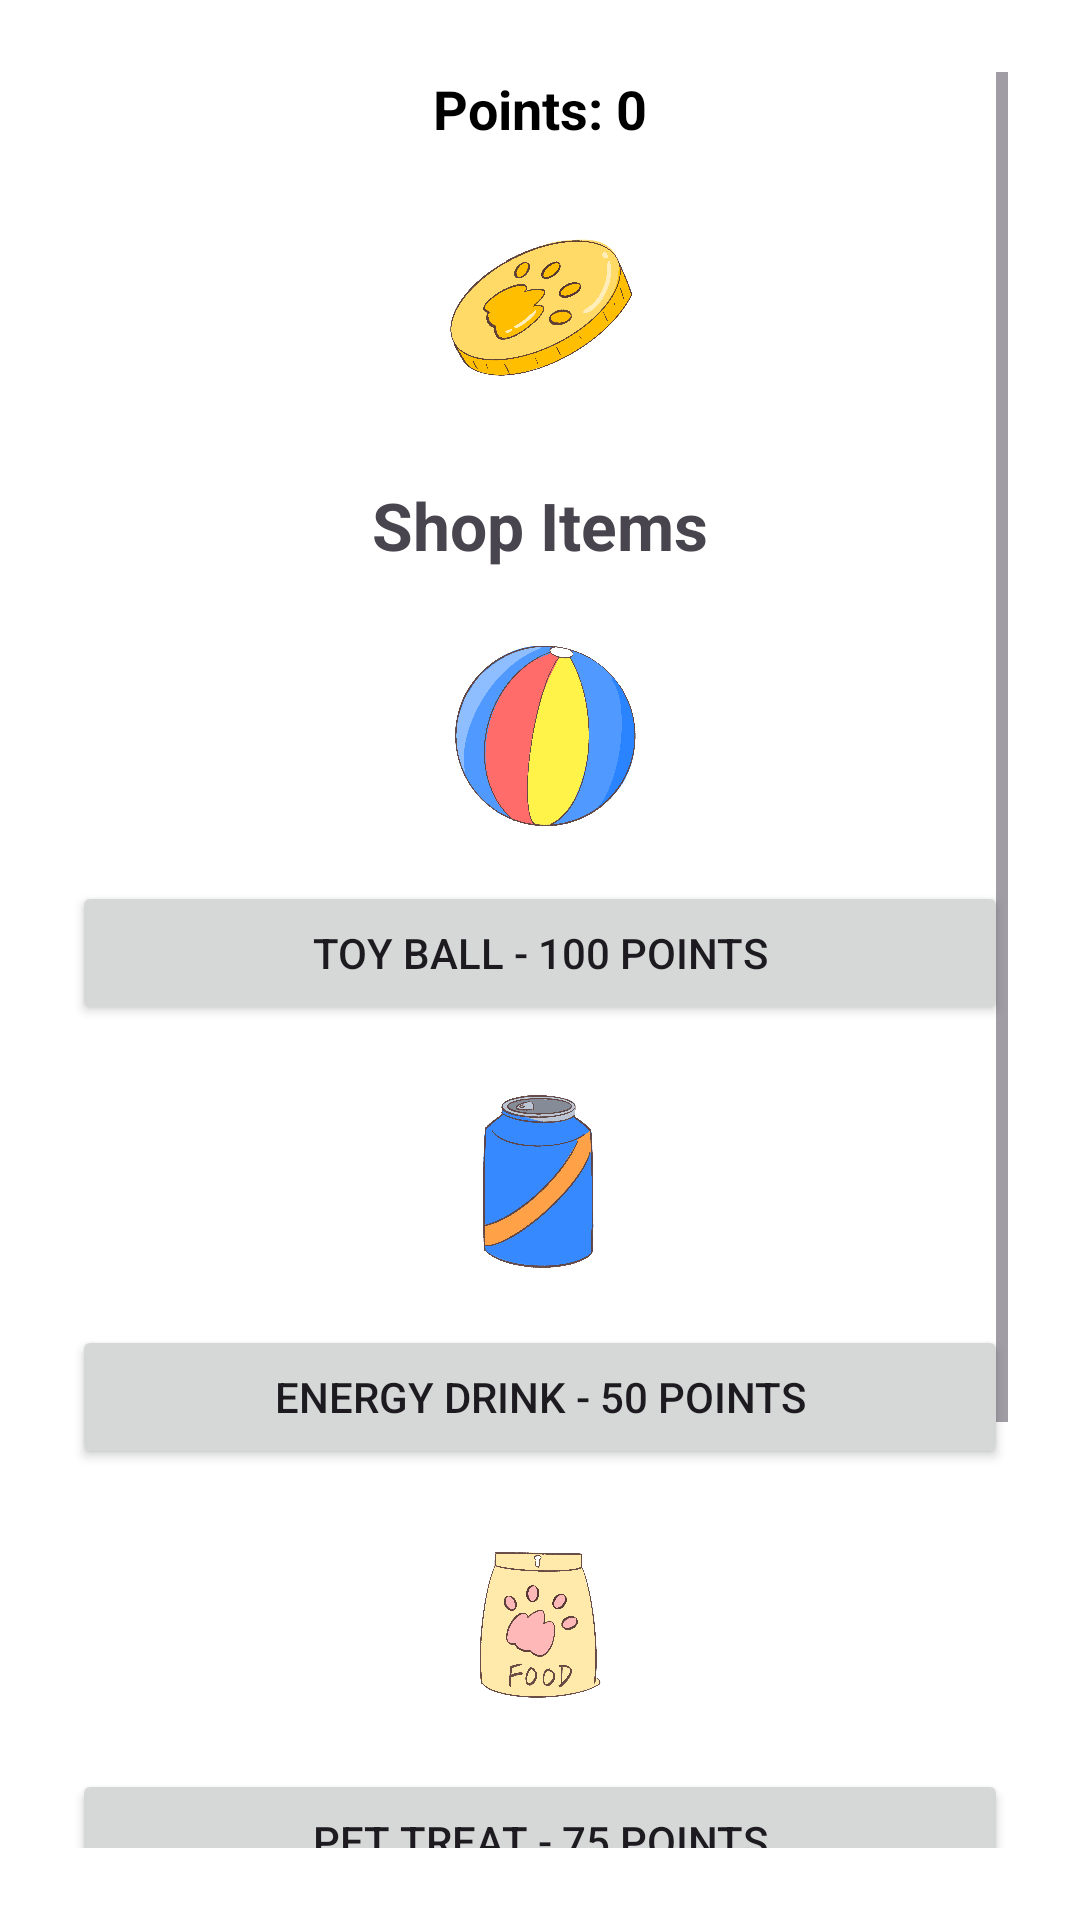

Where icons sit on this 1080w x 1920h app screen, as (x1,y1,x2,y2):
coin: (450,239,632,376)
